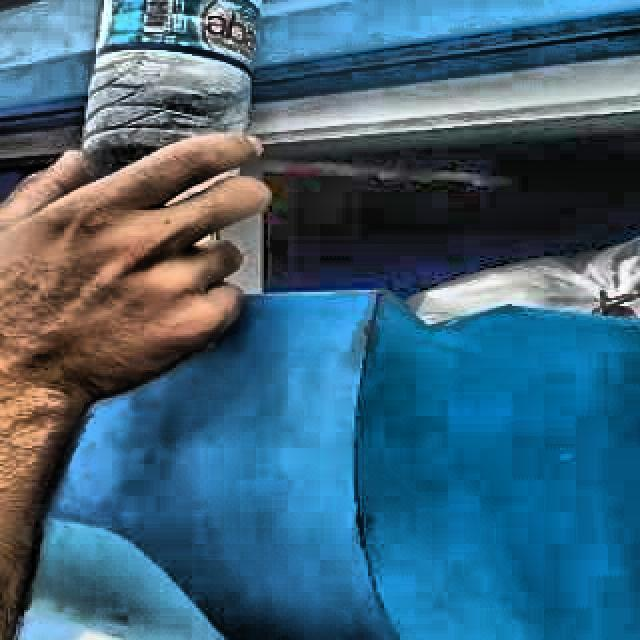plastic: (83, 50, 248, 169)
